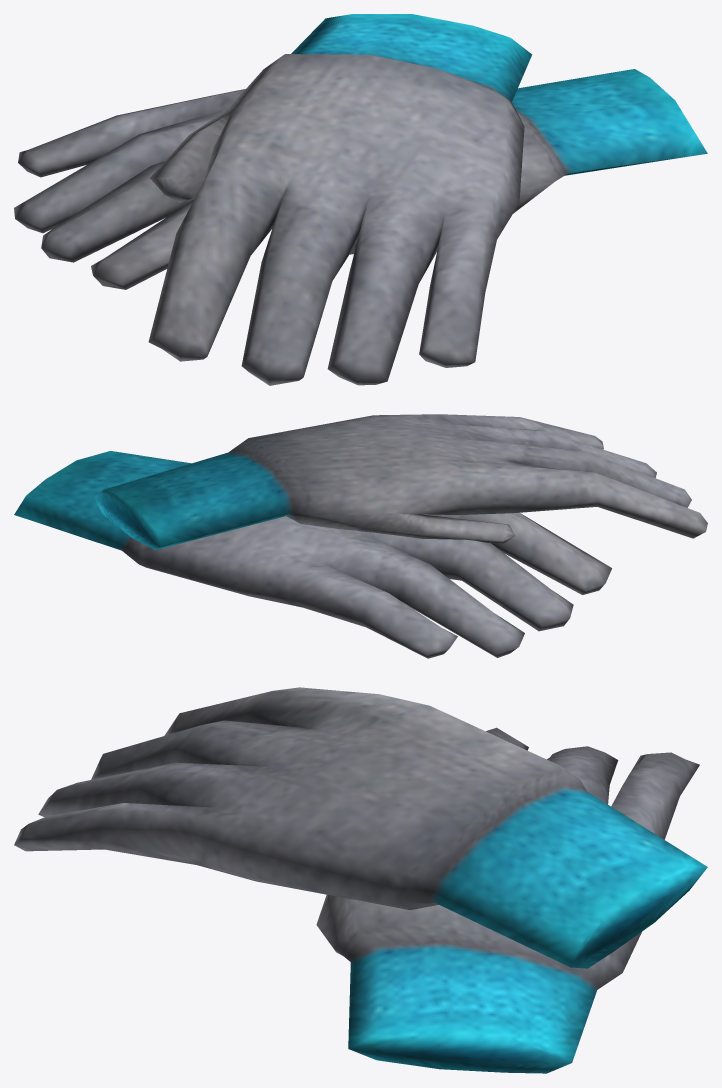
File: TouKuiZheJia_01_shoutao_01.FBX
3 renders of one model, top to bottom at view 1: azimuth 30°, elevation 25°; view 2: azimuth 150°, elevation 25°; view 3: azimuth 270°, elevation 25°, orthographic. The views are drawn at different scales.
Visible parts, largest first — view 1: TouKuiZheJia_shoutao_01; view 2: TouKuiZheJia_shoutao_01; view 3: TouKuiZheJia_shoutao_01.
Boxes of the visible parts, <box> form: TouKuiZheJia_shoutao_01: <box>14,14,707,385</box>; TouKuiZheJia_shoutao_01: <box>14,414,707,658</box>; TouKuiZheJia_shoutao_01: <box>14,687,707,1073</box>.
Size of the model in its own units: 118 by 22.39 by 103.
